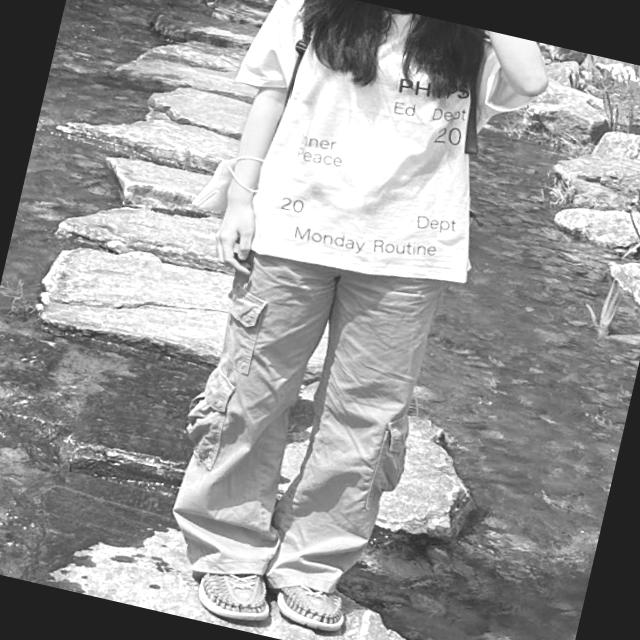cottonpants: (155, 226, 452, 616)
shortsleeve: (194, 0, 542, 308)
